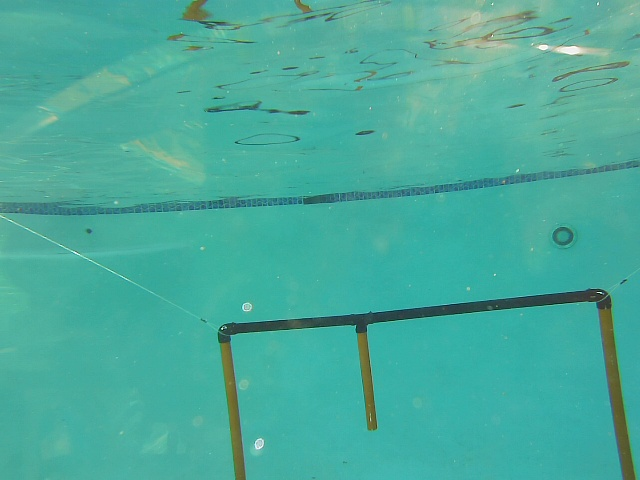Gate: (597, 305, 637, 480), (218, 338, 249, 480), (357, 329, 379, 434)
